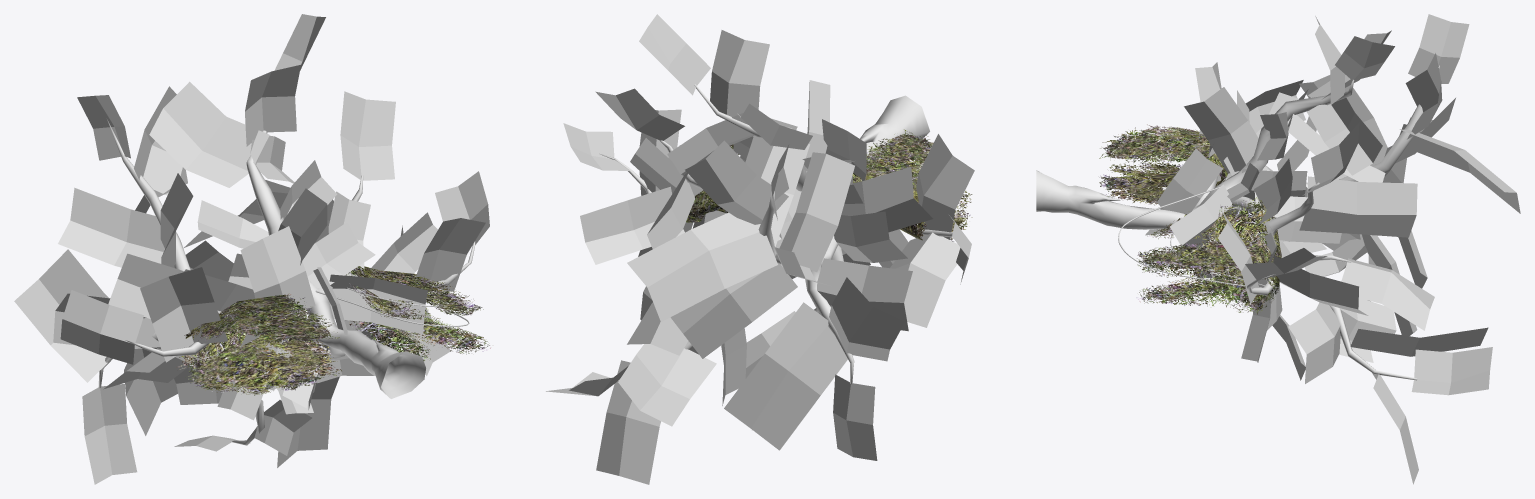
File: Tree 1 v1 - LOD 0.fbx
3 renders of one model, left to right at view 1: azimuth 30°, elevation 25°; view 2: azimuth 150°, elevation 25°; view 3: azimuth 270°, elevation 25°, orthographic. The views are drawn at different scales.
Parts seen in each view (by area): view 1: Branches 1 v1 - LOD 0, Hanging Moss 1 v1 - LOD 0, Bark 1 v1 - LOD 0, Vines 1 v1 - LOD 0; view 2: Branches 1 v1 - LOD 0, Bark 1 v1 - LOD 0, Hanging Moss 1 v1 - LOD 0; view 3: Branches 1 v1 - LOD 0, Hanging Moss 1 v1 - LOD 0, Bark 1 v1 - LOD 0, Vines 1 v1 - LOD 0.
Boxes of the visible parts, x1,y1,x2,y2 form: Branches 1 v1 - LOD 0: (14, 14, 489, 484); Hanging Moss 1 v1 - LOD 0: (176, 266, 490, 395); Bark 1 v1 - LOD 0: (98, 119, 475, 445); Vines 1 v1 - LOD 0: (315, 287, 469, 326); Branches 1 v1 - LOD 0: (546, 14, 974, 484); Bark 1 v1 - LOD 0: (599, 84, 952, 384); Hanging Moss 1 v1 - LOD 0: (686, 129, 972, 241); Branches 1 v1 - LOD 0: (1145, 14, 1520, 484); Hanging Moss 1 v1 - LOD 0: (1099, 124, 1281, 314); Bark 1 v1 - LOD 0: (1036, 65, 1439, 380); Vines 1 v1 - LOD 0: (1118, 186, 1264, 287).
Size of the model in its own units: 23.85 by 25.32 by 25.4.
